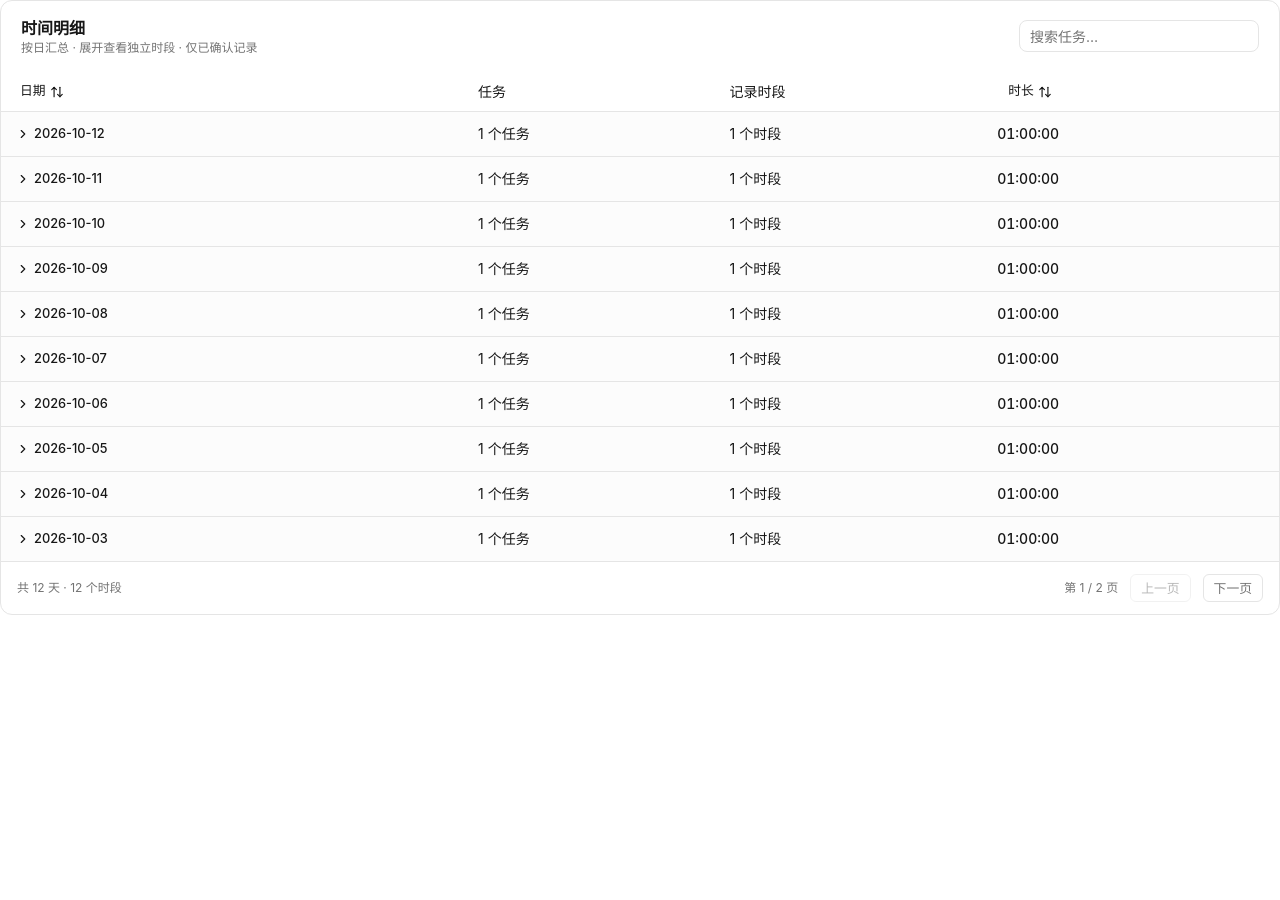
Test case: paginates days, keeping all expanded intervals on the same page
Expected: the text "第 1 / 2 页" is shown, [1064, 580, 1118, 596]
Click the button "下一页" at (1233, 588), box [1203, 574, 1263, 602]
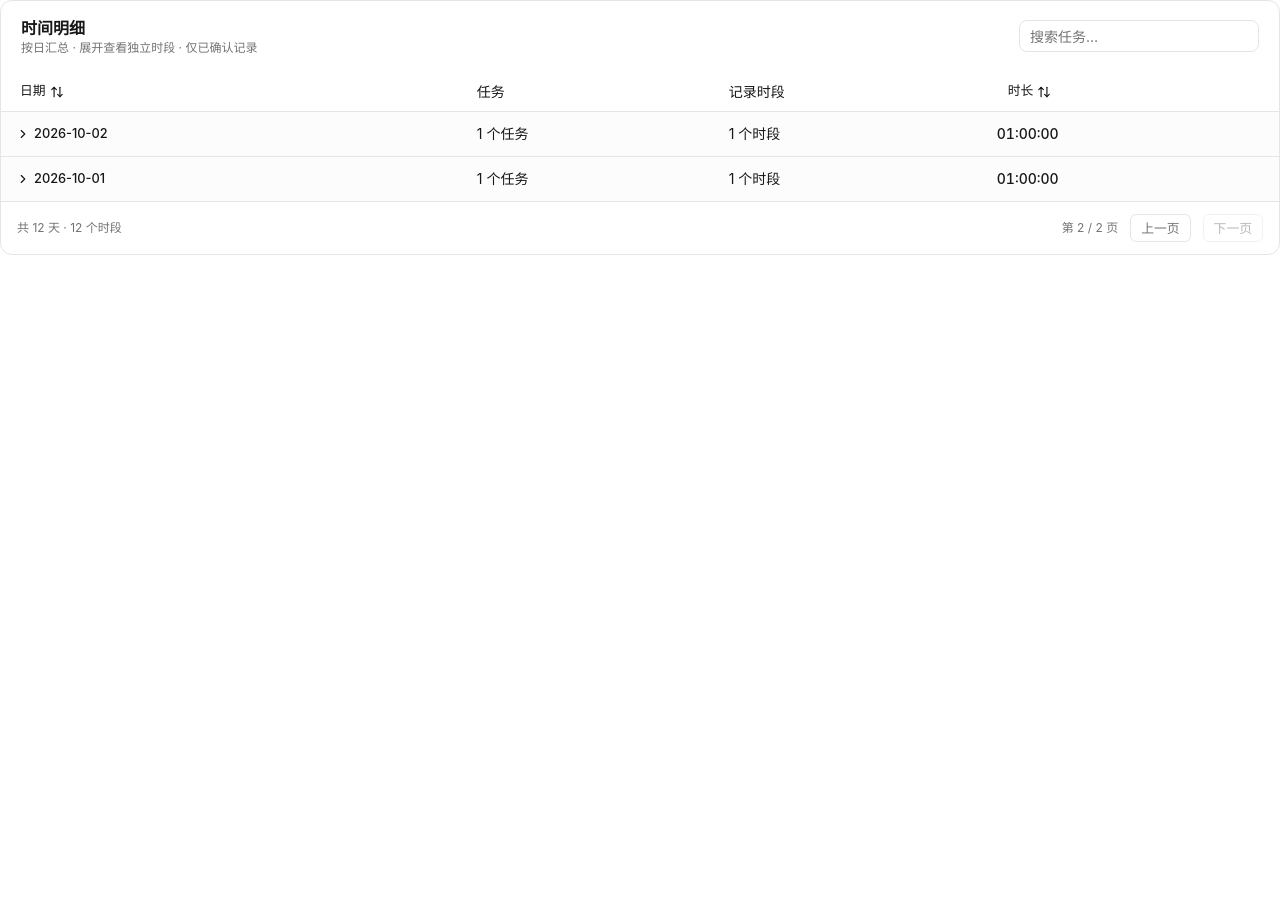
Expected: the text "第 2 / 2 页" is shown, [1062, 220, 1118, 236]
Expected: the number of rows is 3, [1, 72, 1279, 112]; [1, 112, 1279, 157]; [1, 157, 1279, 201]
